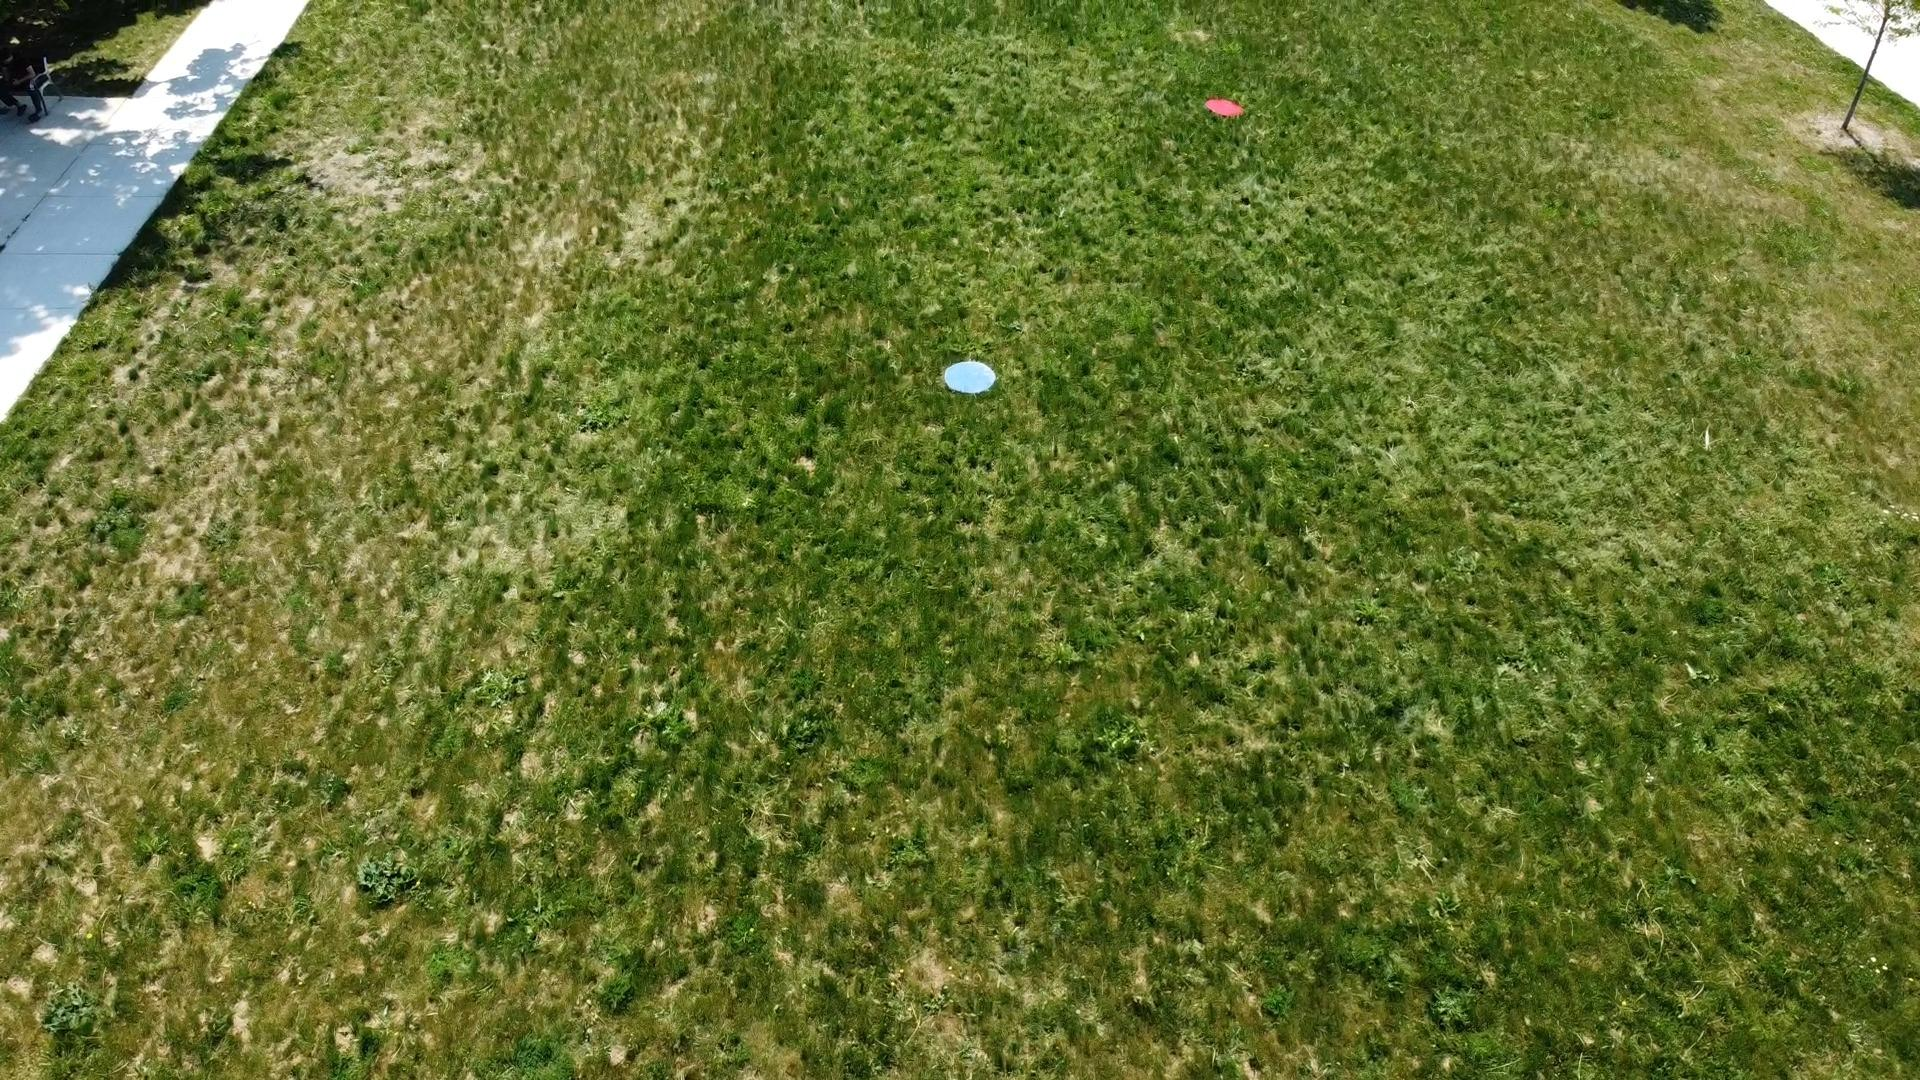Blue: (942, 358, 1002, 396)
Red: (1203, 95, 1250, 121)
